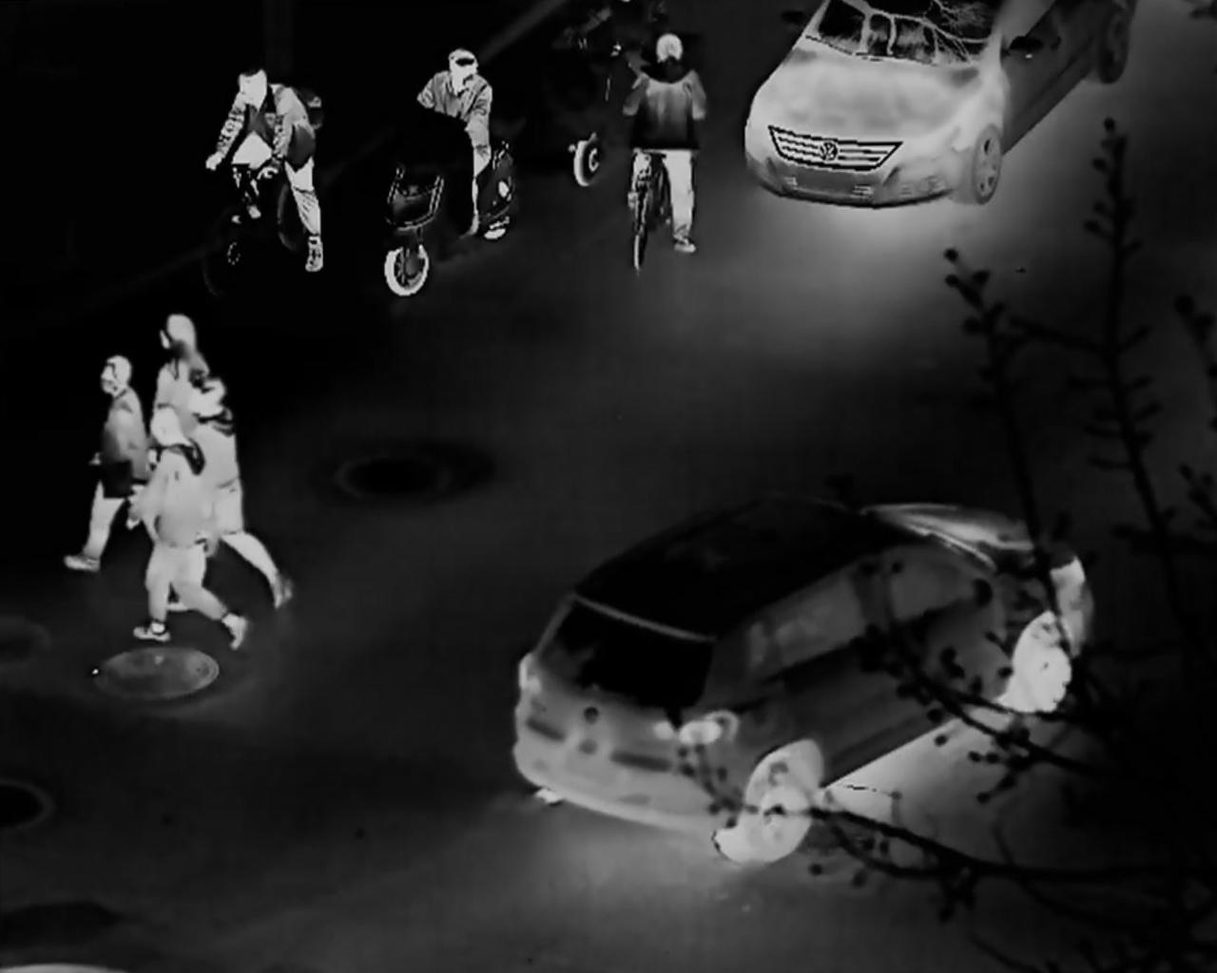person: (125, 400, 248, 653), (185, 374, 295, 606), (206, 67, 324, 275), (129, 310, 227, 555), (622, 30, 712, 254), (68, 353, 149, 570), (413, 48, 493, 241)
